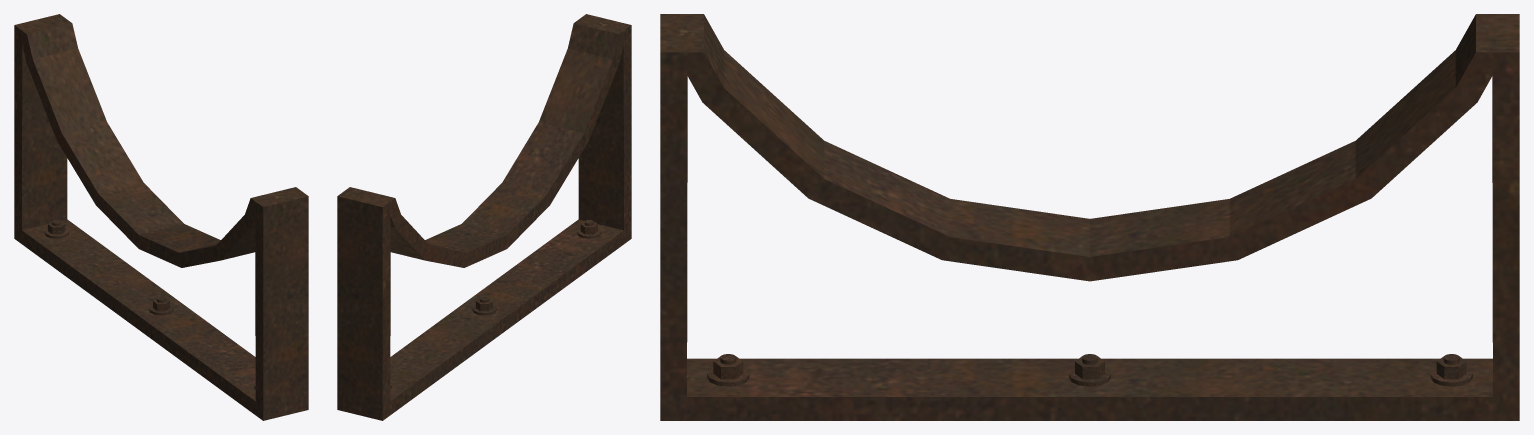
The model's file is stand_mx_1.obj.
3 views of the same model, side by side, from view 1: azimuth 30°, elevation 25°; view 2: azimuth 150°, elevation 25°; view 3: azimuth 270°, elevation 25° (orthographic). The views are drawn at different scales.
Parts seen in each view (by area): view 1: stand_mx_1; view 2: stand_mx_1; view 3: stand_mx_1.
Boxes of the visible parts, x1,y1,x2,y2 form: stand_mx_1: (14, 14, 308, 420); stand_mx_1: (337, 14, 631, 420); stand_mx_1: (660, 14, 1519, 420).
Size of the model in its own units: 0.2 by 0.9 by 1.9.
